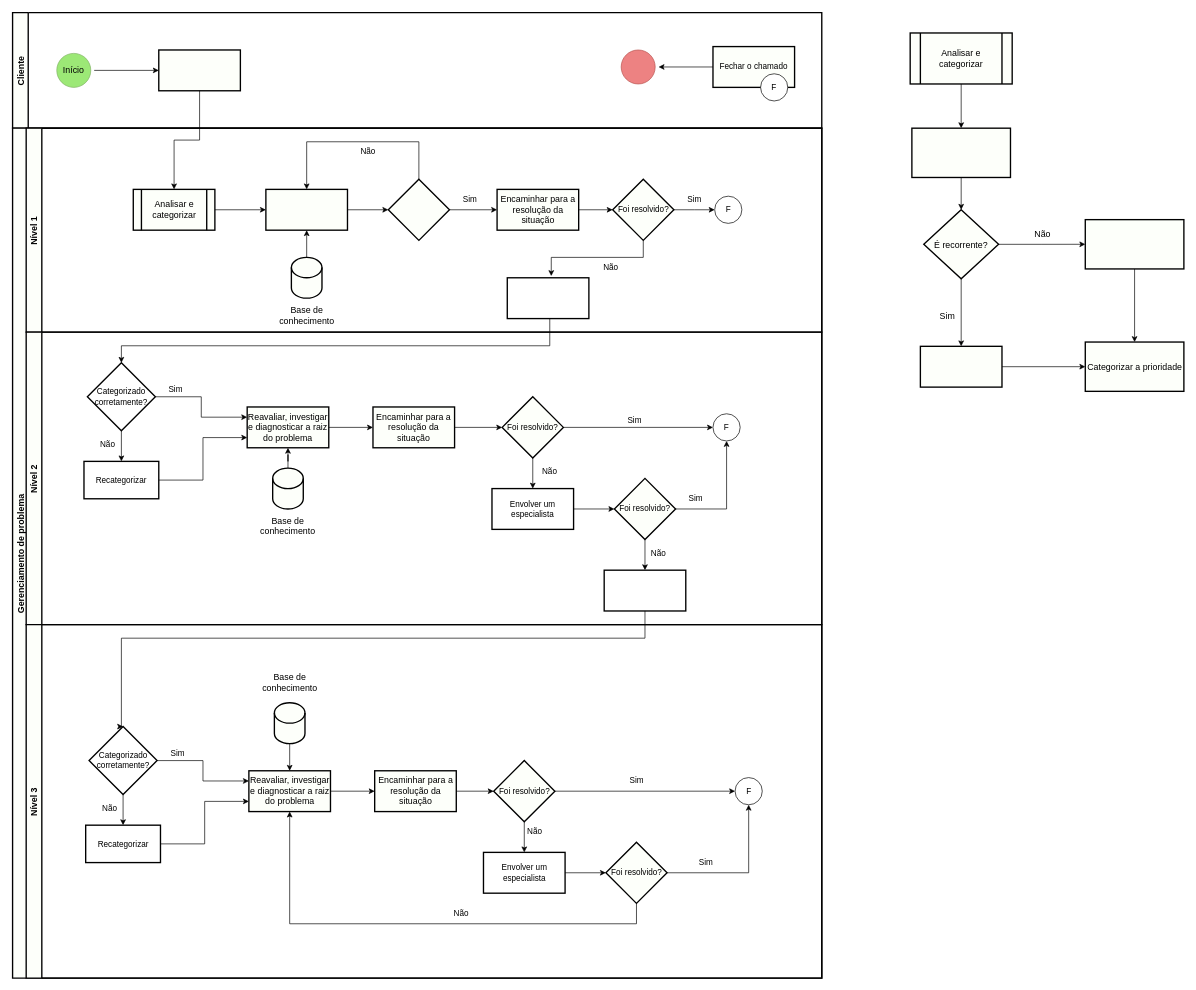
Some shapes in this 1196 by 990 pixel diagram are drawn without their labels. The centre of each missing label's shape, as x and y in pixels:
A causa foi identificada?: the point at 418,209
Abrir um chamado: the point at 199,70
Central de Serviços de TI: the point at 961,152
Encaminhar para o Nível 2: the point at 547,298
Encaminhar para o Nível 3: the point at 644,590
Encaminhar para processo de requisição ou incidente: the point at 1134,244
Fim: the point at 637,66
Investigar e diagnosticar a raiz do problema: the point at 306,209
Processo de problema: the point at 960,366
